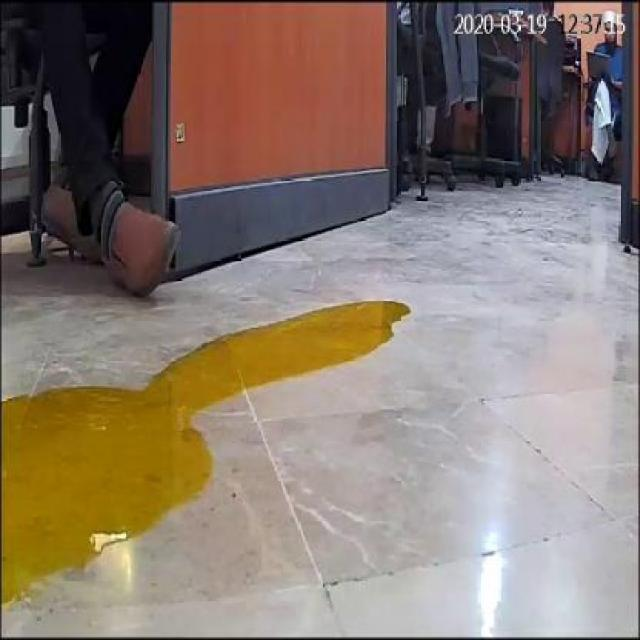spill: (1, 298, 413, 612)
